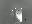person: (12, 9, 22, 23)
